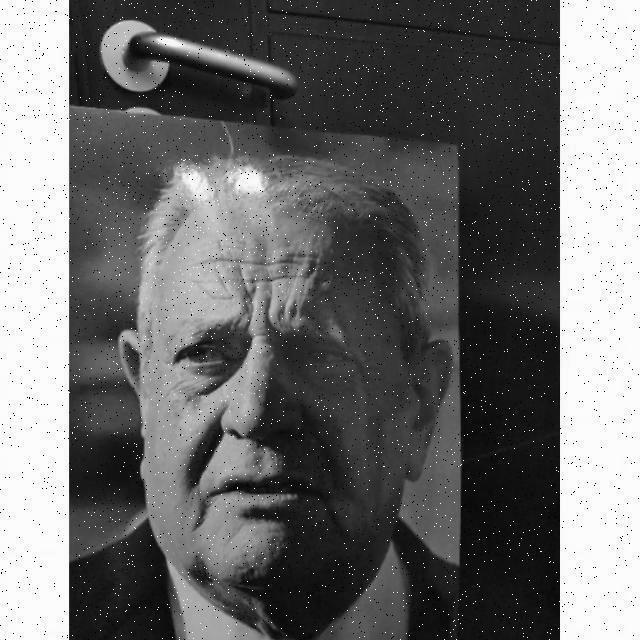fake: (69, 100, 481, 640)
